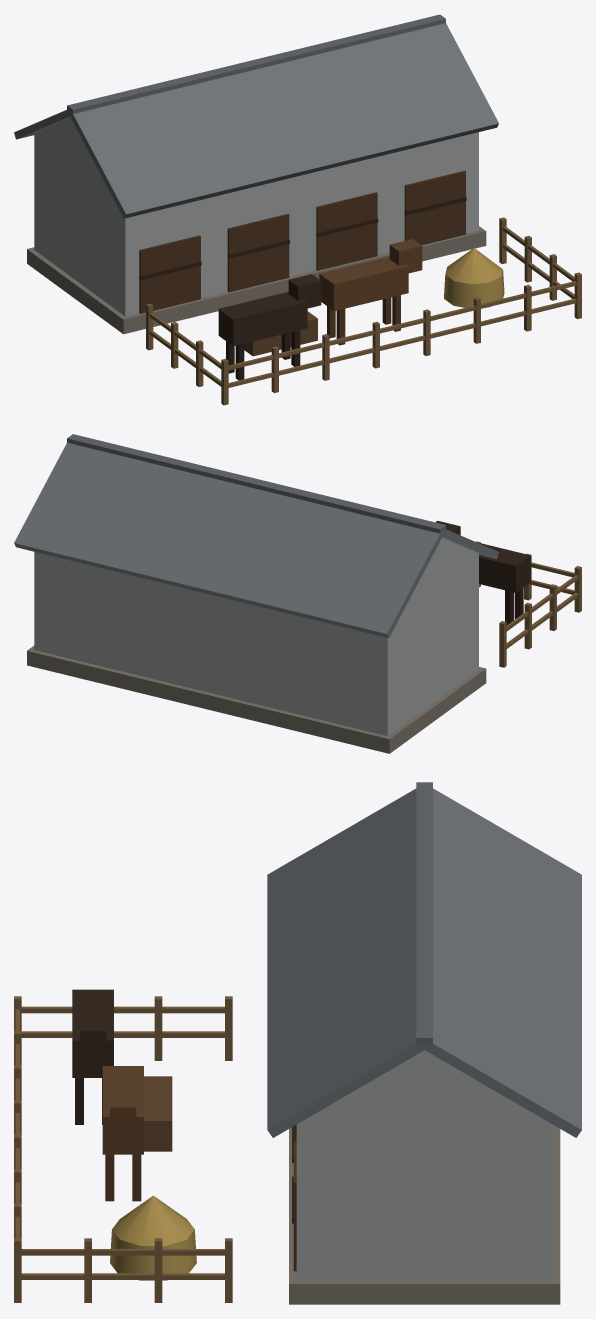
Rendered from procedural_stable@6.glb.
3 views of the same model, one above another, from view 1: azimuth 30°, elevation 25°; view 2: azimuth 150°, elevation 25°; view 3: azimuth 270°, elevation 25° (orthographic). The views are drawn at different scales.
Parts seen in each view (by area): view 1: part_0; view 2: part_0; view 3: part_0.
Part boxes in pixels (x1,y1,x2,y2): part_0: [14, 14, 581, 405]; part_0: [14, 434, 581, 753]; part_0: [14, 782, 581, 1304].
Bounding box in the file's own units: 8.02 × 3.96 × 7.54.
